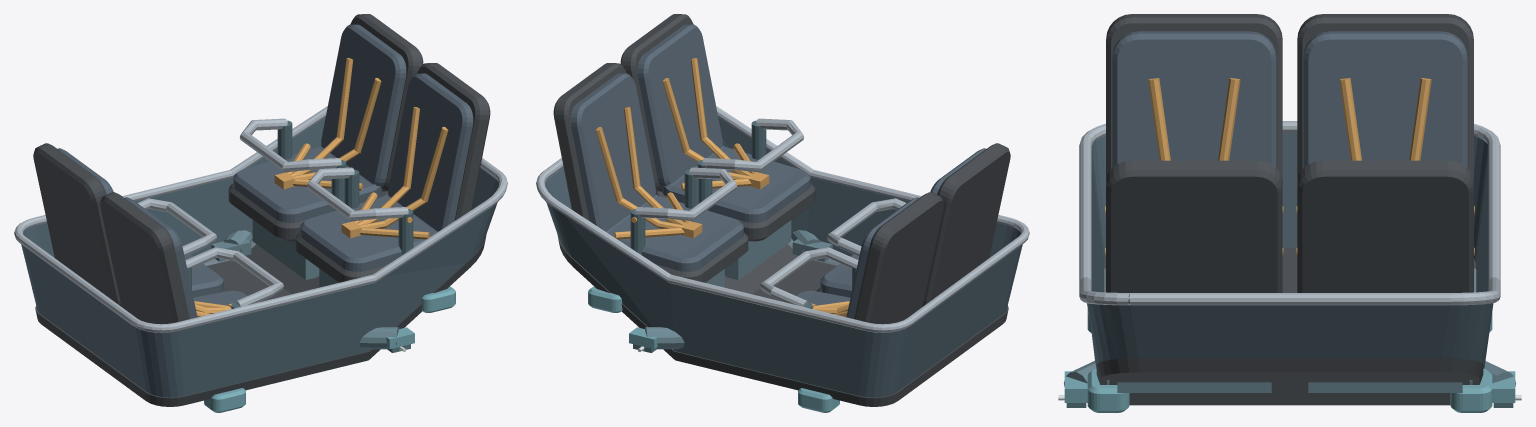
3 renders of one model, left to right at view 1: azimuth 30°, elevation 25°; view 2: azimuth 150°, elevation 25°; view 3: azimuth 270°, elevation 25°, orthographic. The views are drawn at different scales.
Parts seen in each view (by area): view 1: S12_Cabin, S12_Cabin_Mount_M; view 2: S12_Cabin, S12_Cabin_Mount_M; view 3: S12_Cabin, S12_Cabin_Mount_M.
Part boxes in pixels (bbox=[...]): S12_Cabin: bbox=[14, 14, 507, 412]; S12_Cabin_Mount_M: bbox=[211, 230, 414, 352]; S12_Cabin: bbox=[536, 14, 1029, 412]; S12_Cabin_Mount_M: bbox=[629, 230, 832, 352]; S12_Cabin: bbox=[1079, 14, 1500, 412]; S12_Cabin_Mount_M: bbox=[1058, 361, 1521, 407].
Bounding box in the file's own units: 0.88 × 0.545 × 0.664.
